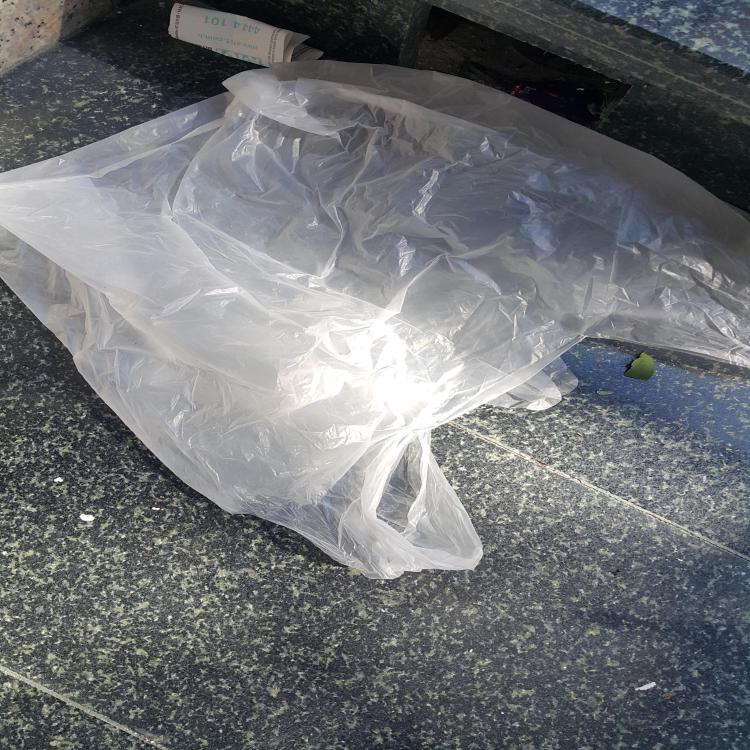Normal paper: (168, 3, 323, 67)
Other plastic: (509, 81, 595, 117)
Single-use carrier bag: (0, 60, 750, 579)
